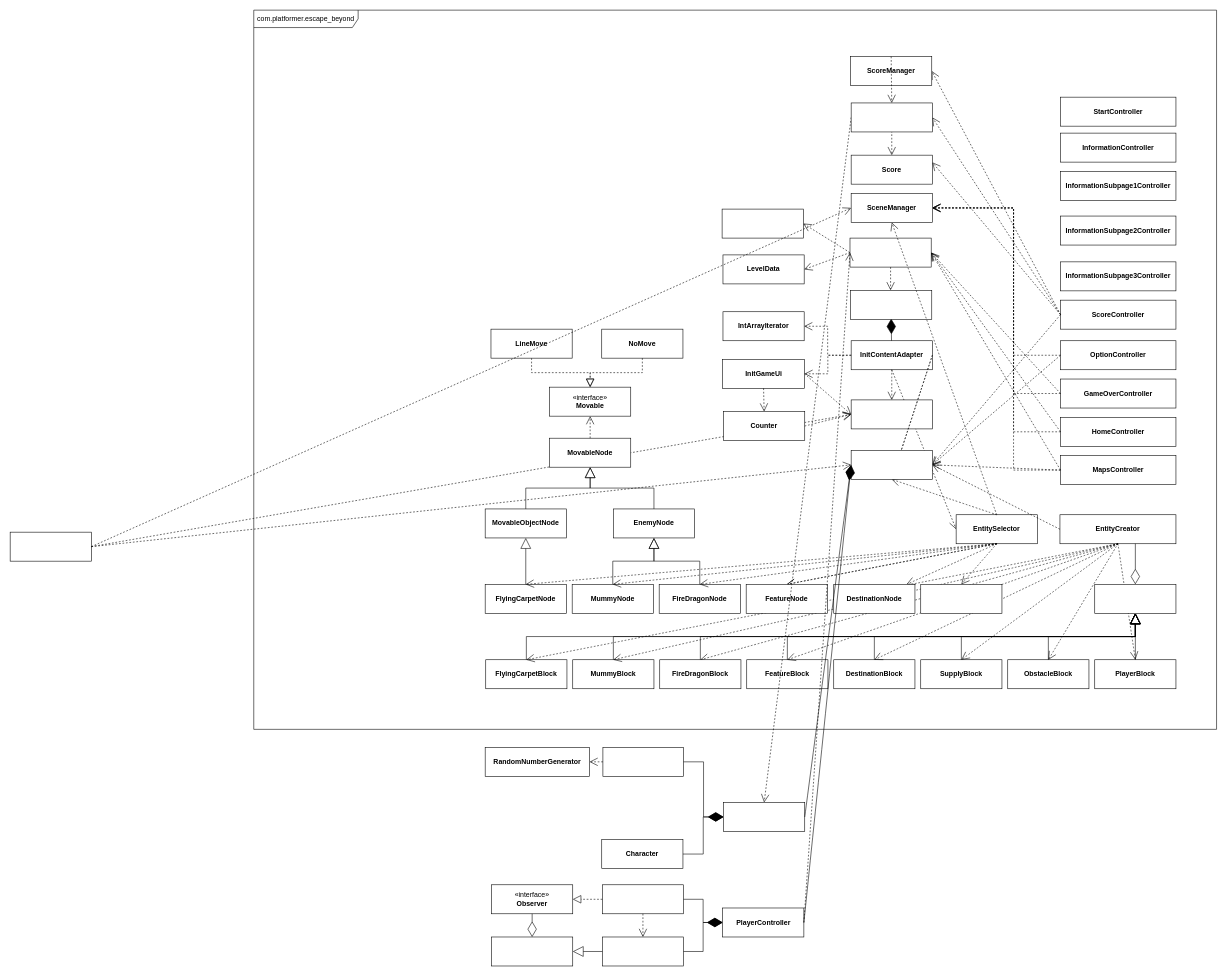
Image size: 1227x977. Some labels were removed from this diagram. Here are the shapes that lost their labels. From the top down, the centre of each, then its label:
(891,117): ScoreCalculator
(762,223): MusicManager
(890,252): GameManager
(891,304): InitContent
(891,414): TimeManager
(891,464): DataManager
(50,546): Main
(961,598): SupplyNode
(1135,598): Entity
(643,761): Map
(764,816): GameState
(643,899): PlayerView
(532,951): Subject
(643,951): PlayerModel
